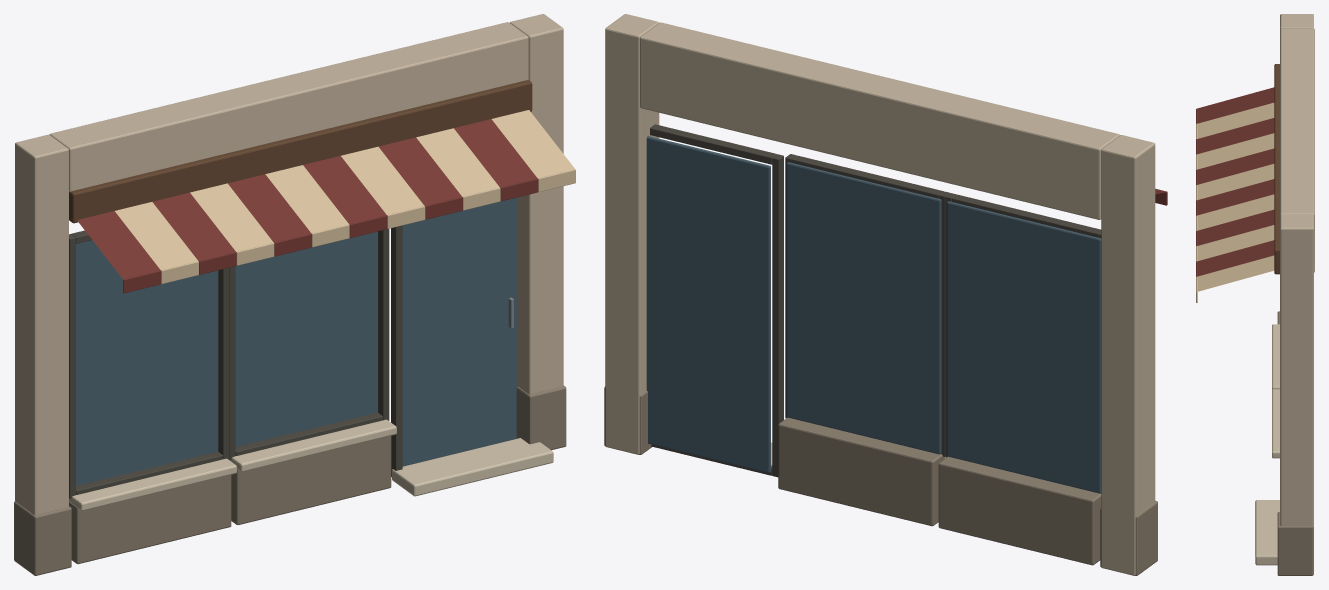
The model's file is Ladenerdgeschoss.glb.
3 renders of one model, left to right at view 1: azimuth 30°, elevation 25°; view 2: azimuth 150°, elevation 25°; view 3: azimuth 270°, elevation 25°, orthographic. The views are drawn at different scales.
Visible parts, largest first — view 1: Fassadensturz, Schaufenster, Tuerglas, Schaufenster.001, Fassadenpfeiler, Ladenblende, Fassadenpfeiler.001, Schaufensterbruestung, Schaufensterbruestung.001, Tritt, Pfeilersockel, Fensterbank (+21 smaller); view 2: Fassadensturz, Schaufenster.001, Schaufenster, Tuerglas, Fassadenpfeiler, Fassadenpfeiler.001, Schaufensterbruestung, Schaufensterbruestung.001, Ladentuer_Pfosten, Ladentuer_Riegel.001, Pfeilersockel, Schaufensterrahmen_Riegel.003 (+2 smaller); view 3: Fassadenpfeiler.001, Fassadensturz, Pfeilersockel.001, Tritt, Ladenblende, Markisenbahn.004, Markisenbahn, Markisenbahn.003, Markisenbahn.007, Markisenbahn.010, Markisenbahn.001, Markisenbahn.009 (+8 smaller).
Part boxes in pixels (x1,y1,x2,y2): Fassadensturz: (49, 22, 528, 192); Schaufenster: (76, 240, 218, 485); Tuerglas: (402, 197, 517, 466); Schaufenster.001: (235, 231, 377, 446); Fassadenpfeiler: (15, 134, 68, 514); Ladenblende: (69, 80, 532, 223); Fassadenpfeiler.001: (510, 14, 563, 394); Schaufensterbruestung: (69, 475, 231, 564); Schaufensterbruestung.001: (231, 436, 391, 524); Tritt: (392, 438, 553, 496); Pfeilersockel: (14, 501, 71, 575); Fensterbank: (69, 458, 236, 510); Fassadensturz: (640, 22, 1120, 219); Schaufenster.001: (786, 162, 941, 454); Schaufenster: (946, 201, 1101, 493); Tuerglas: (646, 136, 770, 472); Fassadenpfeiler: (1101, 135, 1155, 575); Fassadenpfeiler.001: (605, 14, 659, 454); Schaufensterbruestung: (938, 456, 1101, 565); Schaufensterbruestung.001: (778, 417, 944, 526); Ladentuer_Pfosten: (772, 154, 783, 477); Ladentuer_Riegel.001: (650, 124, 776, 164); Pfeilersockel: (1100, 500, 1157, 575); Schaufensterrahmen_Riegel.003: (791, 155, 943, 198); Fassadenpfeiler.001: (1280, 214, 1313, 574); Fassadensturz: (1280, 28, 1314, 272); Pfeilersockel.001: (1277, 512, 1313, 575); Tritt: (1255, 500, 1279, 565); Ladenblende: (1274, 64, 1279, 274); Markisenbahn.004: (1197, 148, 1274, 184); Markisenbahn: (1197, 87, 1274, 123); Markisenbahn.003: (1197, 133, 1274, 169); Markisenbahn.007: (1197, 194, 1274, 230); Markisenbahn.010: (1197, 240, 1274, 276); Markisenbahn.001: (1197, 102, 1274, 138); Markisenbahn.009: (1197, 225, 1274, 260).
Bounding box in the file's own units: 4.26 × 3.2 × 0.99.
